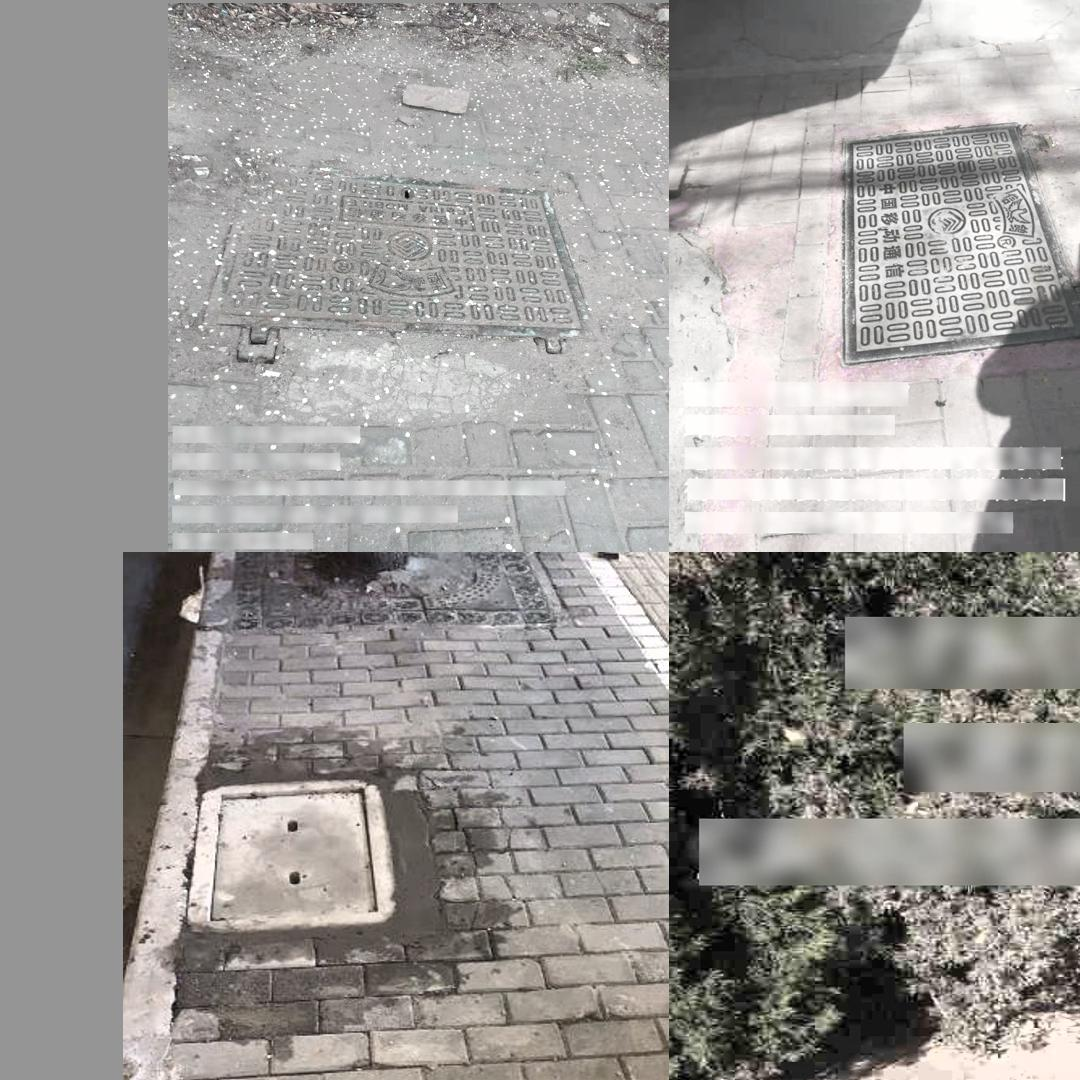good: (201, 168, 591, 361), (187, 760, 465, 992), (842, 120, 1080, 368)
